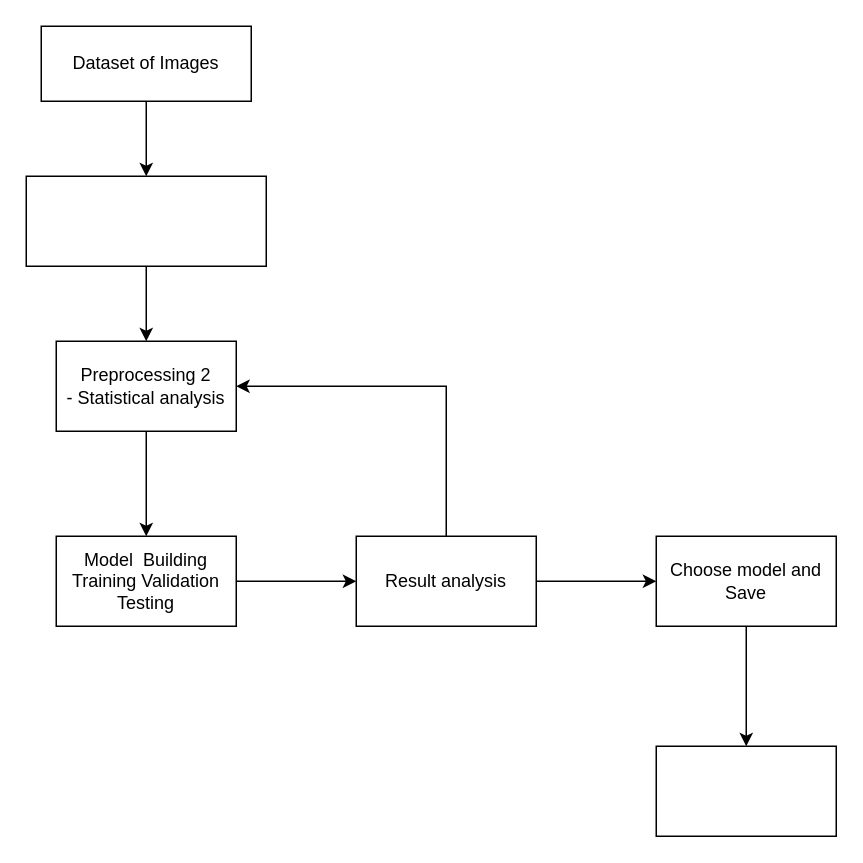
Some shapes in this 863 by 863 pixel diagram are drawn without their labels. The centre of each missing label's shape, as x and y in pixels:
Create Api and expose as restendpoint: point (745, 790)
Preprocessing 1 - Resize - Convert to grayscale - Landmarks: point (145, 220)
